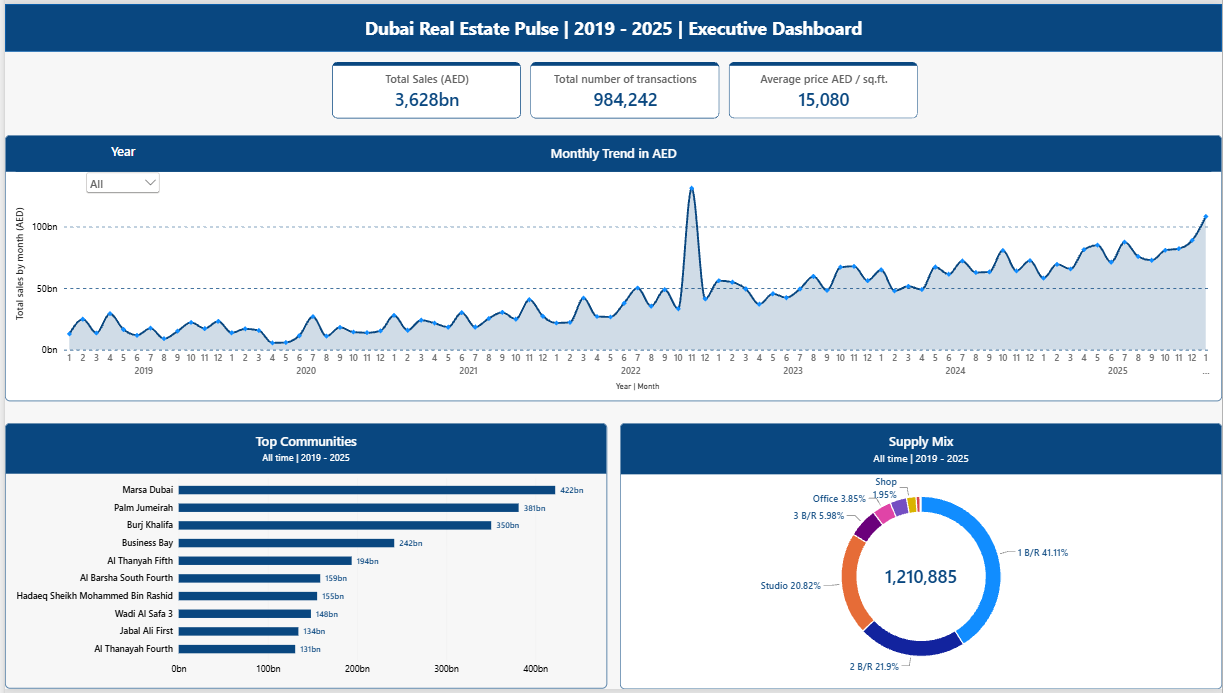

The dashboard page shown, as its layout file describes it:
{"tool":"powerbi","page":{"name":"Exec. Report","canvas":[1920,1080],"ordinal":0},"visuals":[{"type":"cardVisual","fields":{"Data":["Sum(gold_sales_overview.total_sales_aed)","Sum(gold_sales_overview.total_transactions)","Avg(gold_sales_overview.avg_price_sqft)"]},"box":[515.9,91.5,924.3,89.7],"z":0},{"type":"shape","title":"Dubai Real Estate ","box":[0,0,1920,75],"z":1},{"type":"lineChart","title":"Monthly Trend in AED","fields":{"Category":["gold_sales_overview.year","gold_sales_overview.month"],"Y":["Sum(gold_sales_overview.total_sales_aed)"]},"box":[0,206.8,1920,420],"z":2},{"type":"clusteredBarChart","title":"Top Communities","fields":{"Category":["gold_area_stats.area_name"],"Y":["Sum(gold_area_stats.total_volume_aed)"]},"box":[0,660.7,950,419.1],"z":3},{"type":"donutChart","title":"Supply Mix","fields":{"Category":["gold_supply_stats.room_type"],"Y":["Sum(gold_supply_stats.unit_count)"]},"box":[970.1,660.7,950,420],"z":4},{"type":"slicer","title":"Year","fields":{"Values":["gold_sales_overview.year"]},"box":[123.1,217.7,126.2,88.3],"z":5}]}

Visuals, with their boxes in screenshot pixels (x1, y1, x2, y2), scaled from the page's 1920x1080 canvas onto the 1225x693 screenshot:
cardVisual - Sum(gold_sales_overview.total_sales_aed) x Sum(gold_sales_overview.total_transactions): [329, 59, 919, 116]
"Dubai Real Estate " shape: [0, 0, 1224, 48]
"Monthly Trend in AED" lineChart: [0, 133, 1224, 402]
"Top Communities" clusteredBarChart: [0, 424, 606, 692]
"Supply Mix" donutChart: [619, 424, 1224, 692]
"Year" slicer: [79, 140, 159, 196]
